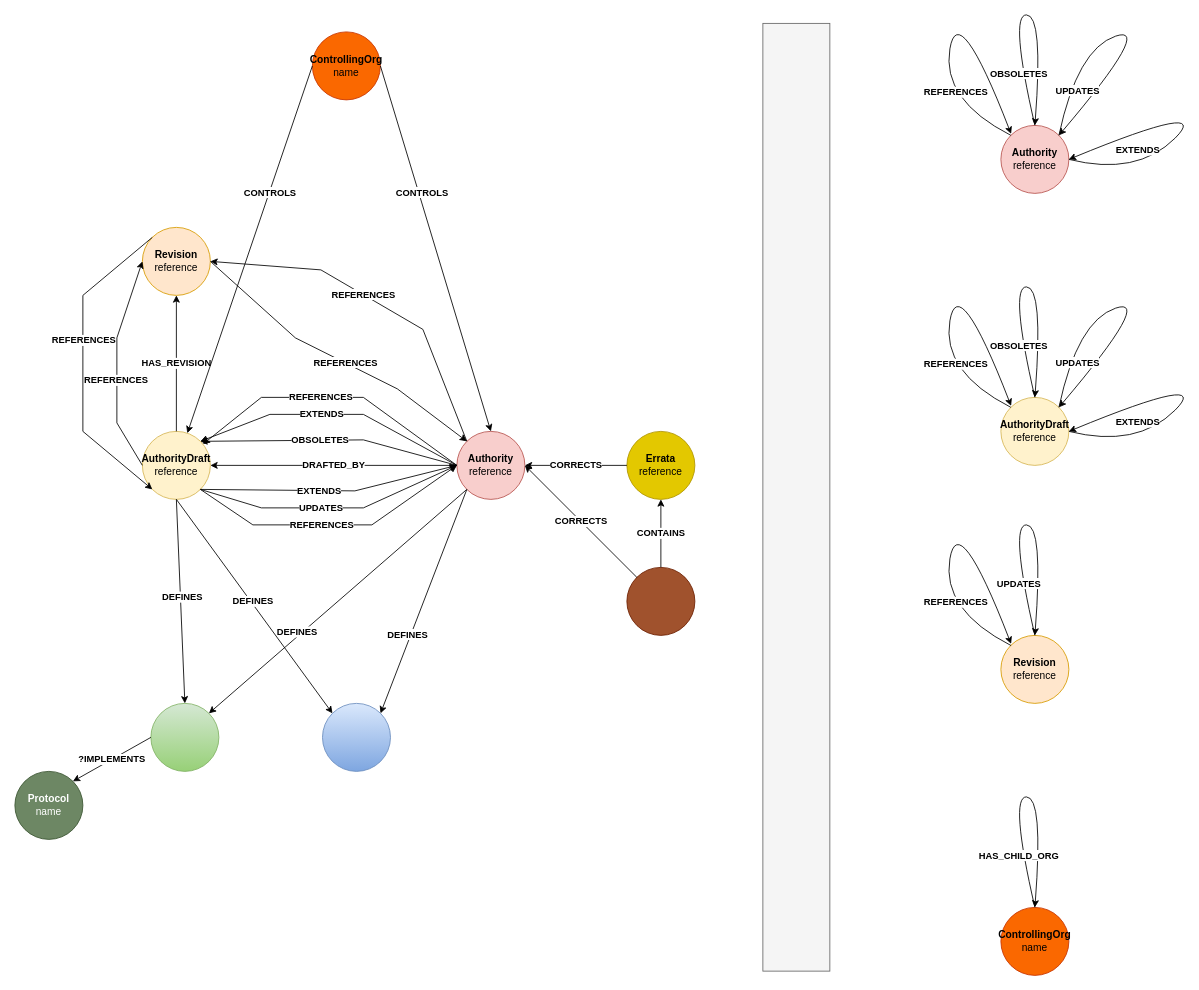
Some shapes in this 1199 by 990 pixel diagram are drawn without their labels. The box of each missing label's shape, as (x1, y1, x2, y2) in pixels:
ErrataSet reference: (626, 567, 695, 635)
ProtocolFeature name: (322, 703, 390, 771)
ProtocolVersion versionedName: (150, 703, 219, 771)
SELF REFERENCES: (762, 23, 830, 971)
